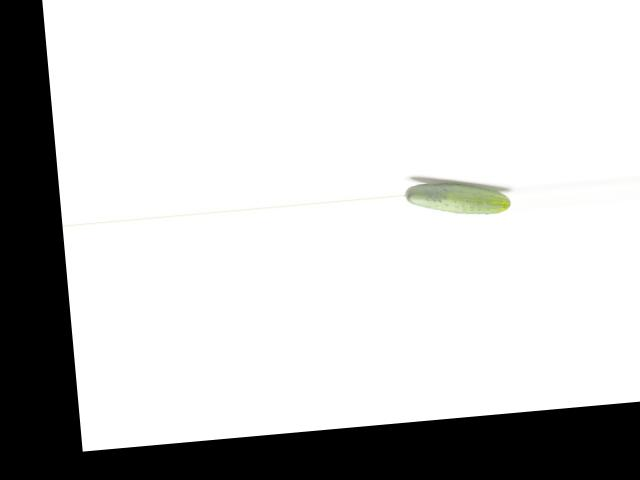cucumber: (402, 175, 510, 221)
